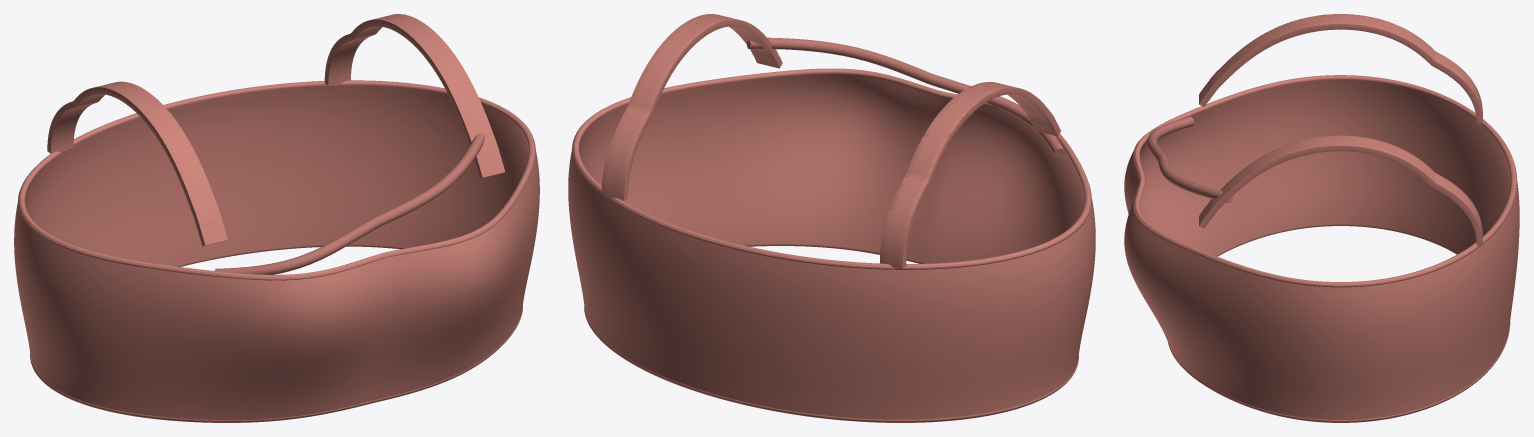
File: Feminine-strappy-top.glb
The picture shows the model from 3 angles, left to right: view 1: azimuth 30°, elevation 25°; view 2: azimuth 150°, elevation 25°; view 3: azimuth 270°, elevation 25°; orthographic projection. The views are drawn at different scales.
Visible parts, largest first — view 1: Clothing / strappy body, Clothing / strappy shoulder strap -1, Clothing / strappy shoulder strap 1, Crop / continuous diagonal strap export, strappy body stitched edge.001 export, strappy body stitched edge export; view 2: Clothing / strappy body, Clothing / strappy shoulder strap -1, Clothing / strappy shoulder strap 1, Crop / continuous diagonal strap export, strappy body stitched edge.001 export, strappy body stitched edge export; view 3: Clothing / strappy body, Clothing / strappy shoulder strap -1, Clothing / strappy shoulder strap 1, Crop / continuous diagonal strap export, strappy body stitched edge.001 export, strappy body stitched edge export.
Boxes of the visible parts, x1,y1,x2,y2 form: Clothing / strappy body: (14,80,539,422); Clothing / strappy shoulder strap -1: (47,81,227,246); Clothing / strappy shoulder strap 1: (324,14,505,178); Crop / continuous diagonal strap export: (214,133,484,274); strappy body stitched edge.001 export: (18,122,535,280); strappy body stitched edge export: (30,306,522,422); Clothing / strappy body: (568,68,1095,422); Clothing / strappy shoulder strap -1: (880,82,1060,268); Clothing / strappy shoulder strap 1: (601,14,782,200); Crop / continuous diagonal strap export: (747,37,1065,158); strappy body stitched edge.001 export: (572,124,1091,269); strappy body stitched edge export: (584,307,1078,422); Clothing / strappy body: (1124,75,1519,422); Clothing / strappy shoulder strap -1: (1199,14,1482,123); Clothing / strappy shoulder strap 1: (1199,135,1482,245); Crop / continuous diagonal strap export: (1147,116,1233,202); strappy body stitched edge.001 export: (1133,127,1517,287); strappy body stitched edge export: (1168,321,1510,422).
Size of the model in its own units: 0.7245 by 0.3878 by 0.5685.
